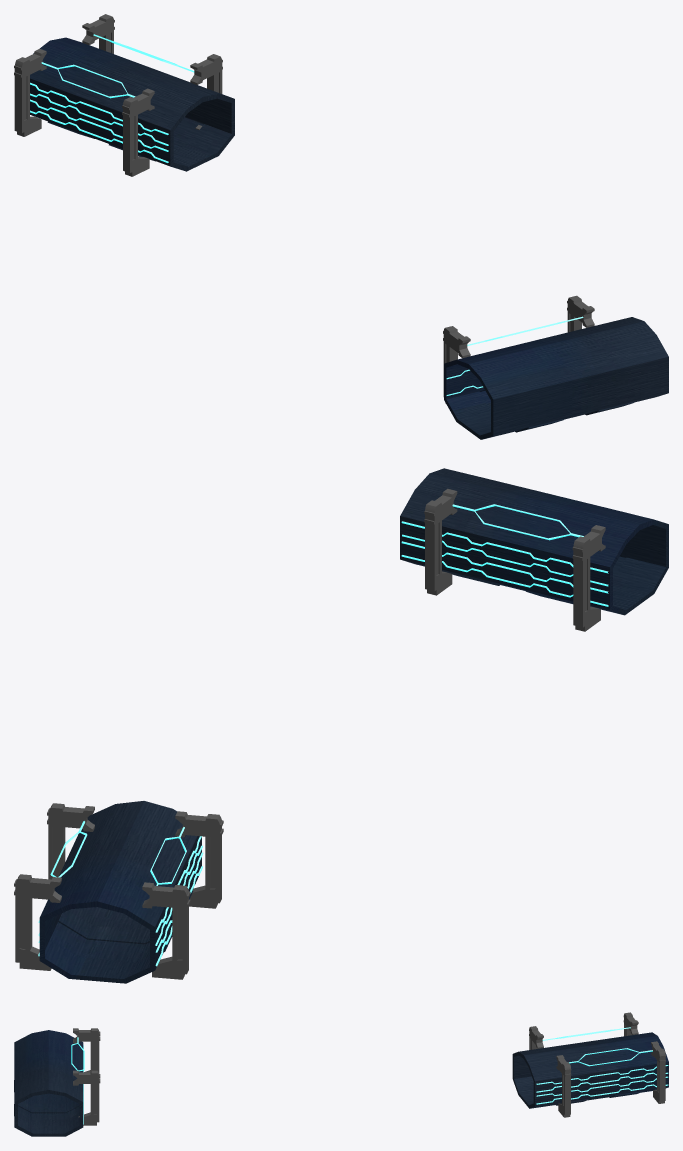
Rendered from TUNNELS.fbx.
3 renders of one model, top to bottom at view 1: azimuth 30°, elevation 25°; view 2: azimuth 150°, elevation 25°; view 3: azimuth 270°, elevation 25°, orthographic. The views are drawn at different scales.
Visible parts, largest first — view 1: city__FNL_V1001_1:pasted__pasted__pCylinder14, city__FNL_V1001_1:pasted__pasted__pCylinder1, city__FNL_V1001_1:pasted__scifi_lamp_pPlane5, city__FNL_V1001_1:pasted__scifi_lamp_pPlane4, city__FNL_V1001_1:pasted__scifi_lamp_pPlane7, city__FNL_V1001_1:pasted__scifi_lamp_pPlane6, city__FNL_V1001_1:pasted__scifi_lamp_pPlane8, city__FNL_V1001_1:pasted__scifi_lamp_pPlane9; view 2: city__FNL_V1001_1:pasted__pasted__pCylinder14, city__FNL_V1001_1:pasted__pasted__pCylinder1, city__FNL_V1001_1:pasted__scifi_lamp_pPlane5, city__FNL_V1001_1:pasted__scifi_lamp_pPlane6, city__FNL_V1001_1:pasted__scifi_lamp_pPlane4, city__FNL_V1001_1:pasted__scifi_lamp_pPlane8, city__FNL_V1001_1:pasted__scifi_lamp_pPlane9, city__FNL_V1001_1:pasted__scifi_lamp_pPlane7; view 3: city__FNL_V1001_1:pasted__pasted__pCylinder1, city__FNL_V1001_1:pasted__pasted__pCylinder14, city__FNL_V1001_1:pasted__scifi_lamp_pPlane9, city__FNL_V1001_1:pasted__scifi_lamp_pPlane8, city__FNL_V1001_1:pasted__scifi_lamp_pPlane7, city__FNL_V1001_1:pasted__scifi_lamp_pPlane6, city__FNL_V1001_1:pasted__scifi_lamp_pPlane4, city__FNL_V1001_1:pasted__scifi_lamp_pPlane5, city__FNL_V1001_1:pasted__pasted__pCube40, city__FNL_V1001_1:pasted__polySurface832, city__FNL_V1001_1:pasted__polySurface834, city__FNL_V1001_1:pasted__polySurface836.
Boxes of the visible parts, bbox=[...] form: city__FNL_V1001_1:pasted__pasted__pCylinder14: bbox=[444, 317, 668, 439]; city__FNL_V1001_1:pasted__pasted__pCylinder1: bbox=[30, 37, 234, 171]; city__FNL_V1001_1:pasted__scifi_lamp_pPlane5: bbox=[14, 48, 46, 136]; city__FNL_V1001_1:pasted__scifi_lamp_pPlane4: bbox=[122, 88, 154, 176]; city__FNL_V1001_1:pasted__scifi_lamp_pPlane7: bbox=[190, 54, 222, 129]; city__FNL_V1001_1:pasted__scifi_lamp_pPlane6: bbox=[82, 14, 114, 53]; city__FNL_V1001_1:pasted__scifi_lamp_pPlane8: bbox=[443, 326, 470, 403]; city__FNL_V1001_1:pasted__scifi_lamp_pPlane9: bbox=[567, 295, 594, 332]; city__FNL_V1001_1:pasted__pasted__pCylinder14: bbox=[400, 468, 668, 615]; city__FNL_V1001_1:pasted__pasted__pCylinder1: bbox=[39, 801, 201, 983]; city__FNL_V1001_1:pasted__scifi_lamp_pPlane5: bbox=[142, 882, 190, 979]; city__FNL_V1001_1:pasted__scifi_lamp_pPlane6: bbox=[14, 874, 61, 970]; city__FNL_V1001_1:pasted__scifi_lamp_pPlane4: bbox=[175, 811, 223, 908]; city__FNL_V1001_1:pasted__scifi_lamp_pPlane8: bbox=[572, 525, 605, 631]; city__FNL_V1001_1:pasted__scifi_lamp_pPlane9: bbox=[424, 488, 457, 595]; city__FNL_V1001_1:pasted__scifi_lamp_pPlane7: bbox=[47, 803, 94, 879]; city__FNL_V1001_1:pasted__pasted__pCylinder1: bbox=[512, 1032, 668, 1108]; city__FNL_V1001_1:pasted__pasted__pCylinder14: bbox=[14, 1030, 83, 1136]; city__FNL_V1001_1:pasted__scifi_lamp_pPlane9: bbox=[73, 1070, 100, 1125]; city__FNL_V1001_1:pasted__scifi_lamp_pPlane8: bbox=[73, 1028, 100, 1072]; city__FNL_V1001_1:pasted__scifi_lamp_pPlane7: bbox=[556, 1055, 571, 1117]; city__FNL_V1001_1:pasted__scifi_lamp_pPlane6: bbox=[651, 1041, 665, 1103]; city__FNL_V1001_1:pasted__scifi_lamp_pPlane4: bbox=[529, 1026, 543, 1049]; city__FNL_V1001_1:pasted__scifi_lamp_pPlane5: bbox=[623, 1012, 638, 1036]; city__FNL_V1001_1:pasted__pasted__pCube40: bbox=[569, 1048, 652, 1066]; city__FNL_V1001_1:pasted__polySurface832: bbox=[536, 1084, 668, 1104]; city__FNL_V1001_1:pasted__polySurface834: bbox=[536, 1072, 668, 1092]; city__FNL_V1001_1:pasted__polySurface836: bbox=[536, 1065, 668, 1084].
Bounding box in the file's own units: 3456 × 1166 × 13091.
3 materials, 1 textured.
